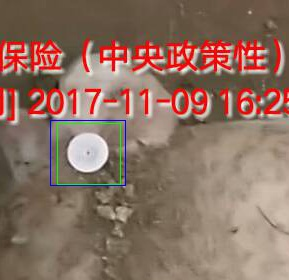text: (57, 123, 120, 184)
